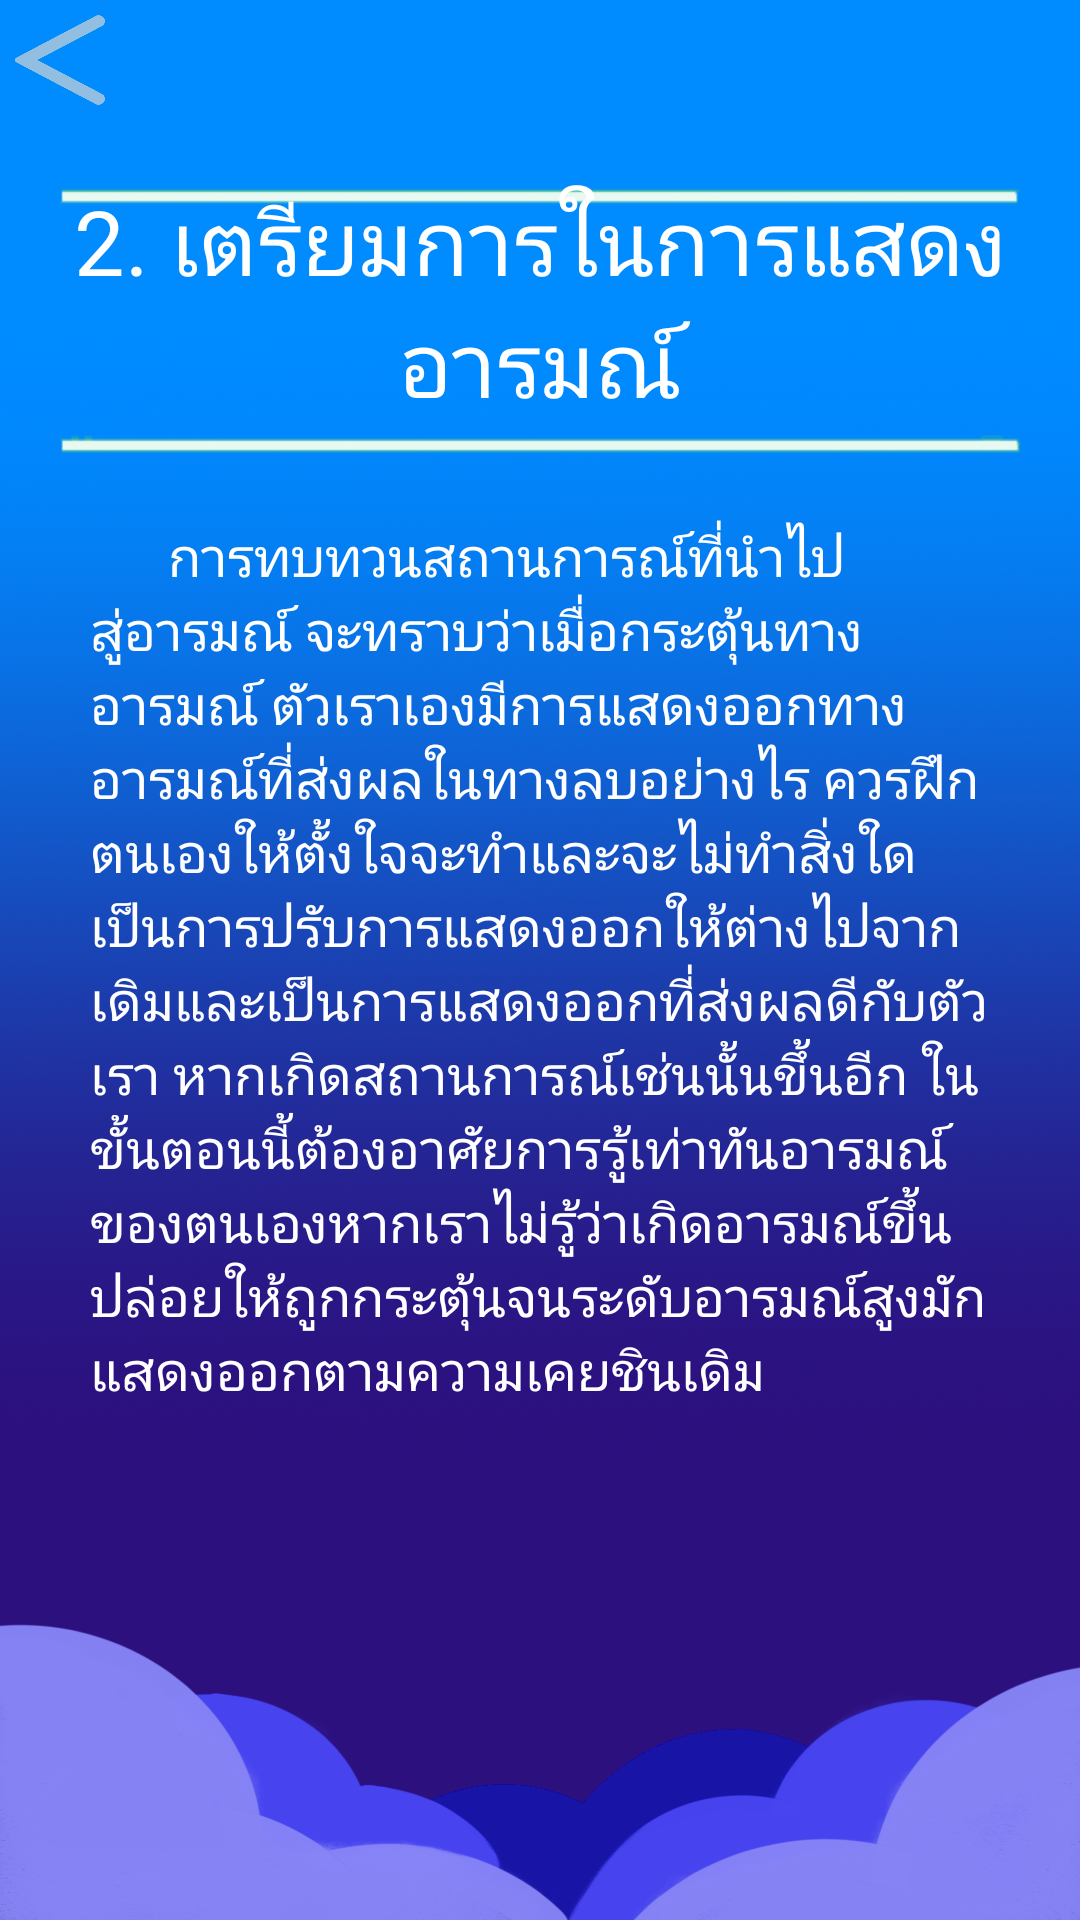

Where icons sit on this 1080 × 1920 app screen, as (x1=x1, y1=y1, x2=x2, y2=y2):
backbut: (x1=15, y1=15, x2=105, y2=105)
